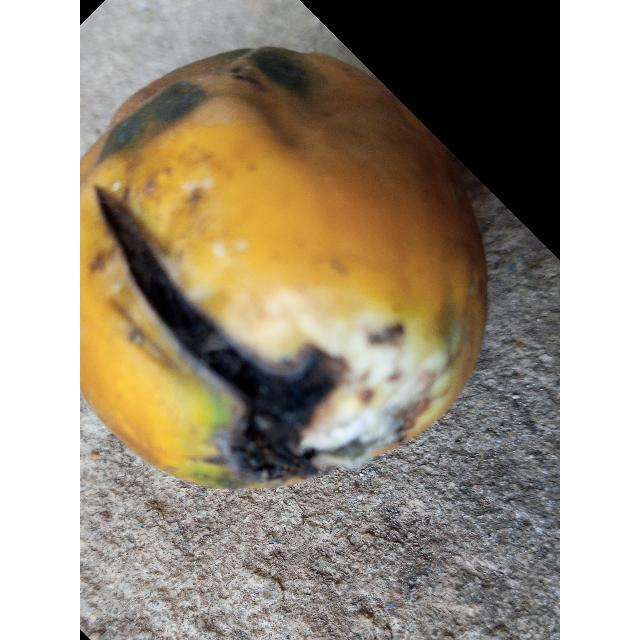damaged: (80, 46, 489, 492)
